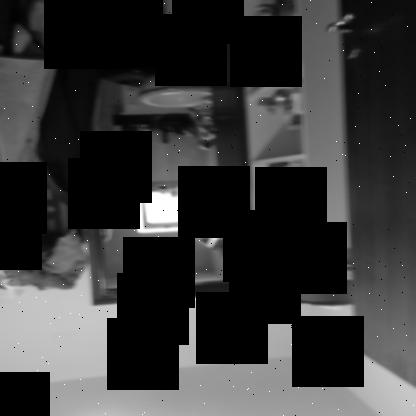Porte: (66, 0, 286, 308)
